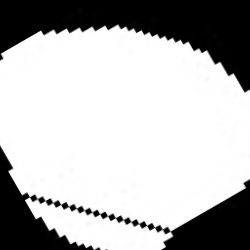spot: (1, 24, 248, 249)
